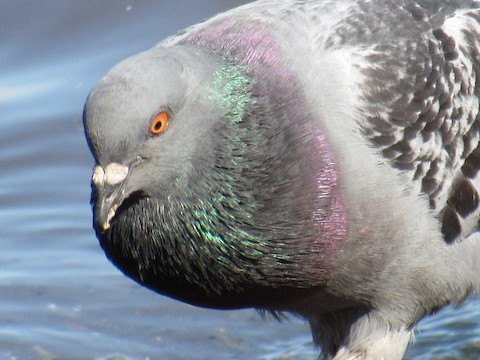pigeon: (80, 12, 469, 348)
